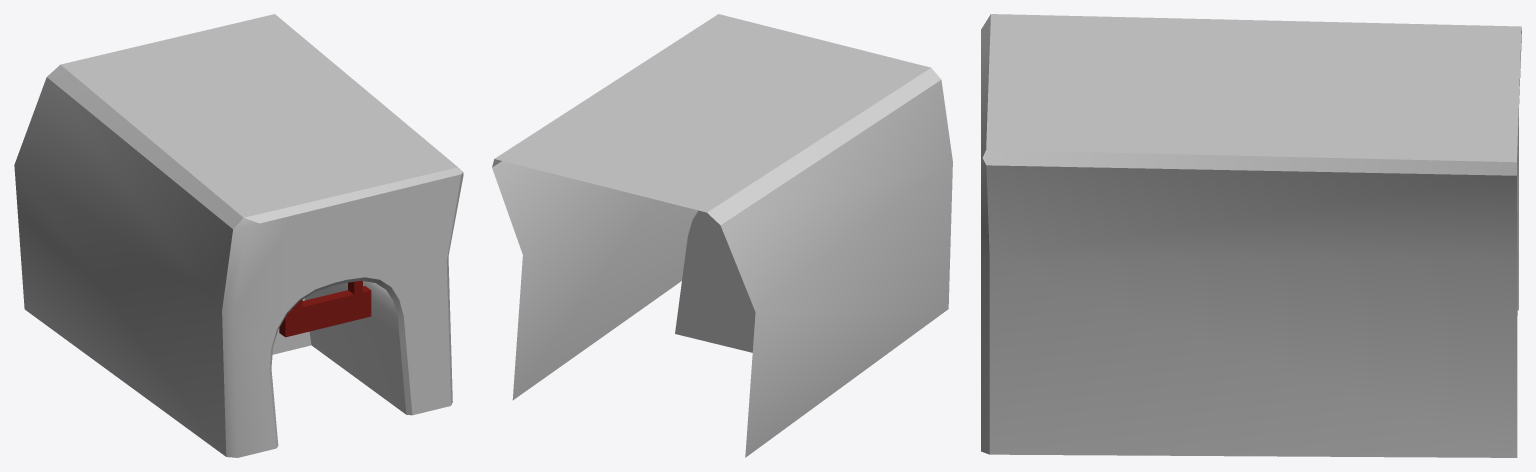
File: SM_Tunnel.fbx
3 views of the same model, side by side, from view 1: azimuth 30°, elevation 25°; view 2: azimuth 150°, elevation 25°; view 3: azimuth 270°, elevation 25° (orthographic). The views are drawn at different scales.
Parts seen in each view (by area): view 1: Box003; view 2: Box003; view 3: Box003.
Boxes of the visible parts, x1,y1,x2,y2 form: Box003: [14, 14, 463, 457]; Box003: [492, 14, 952, 457]; Box003: [981, 14, 1521, 457].
Size of the model in its own units: 1508 by 1292 by 2060.
